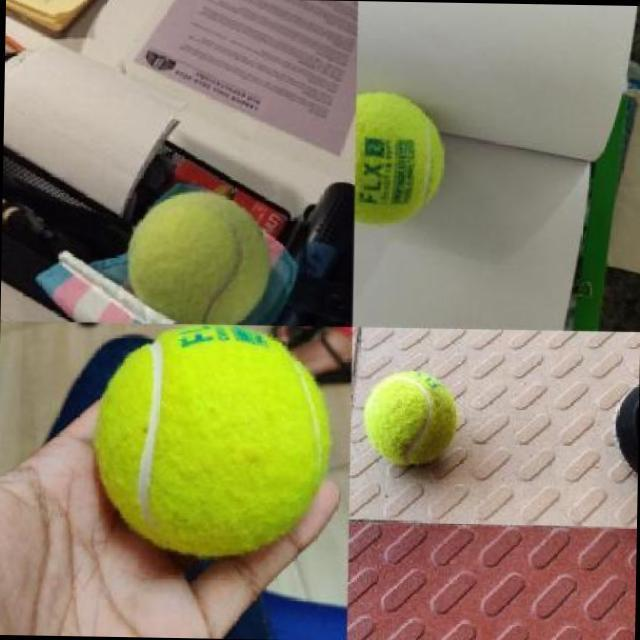-: (89, 318, 356, 557)
